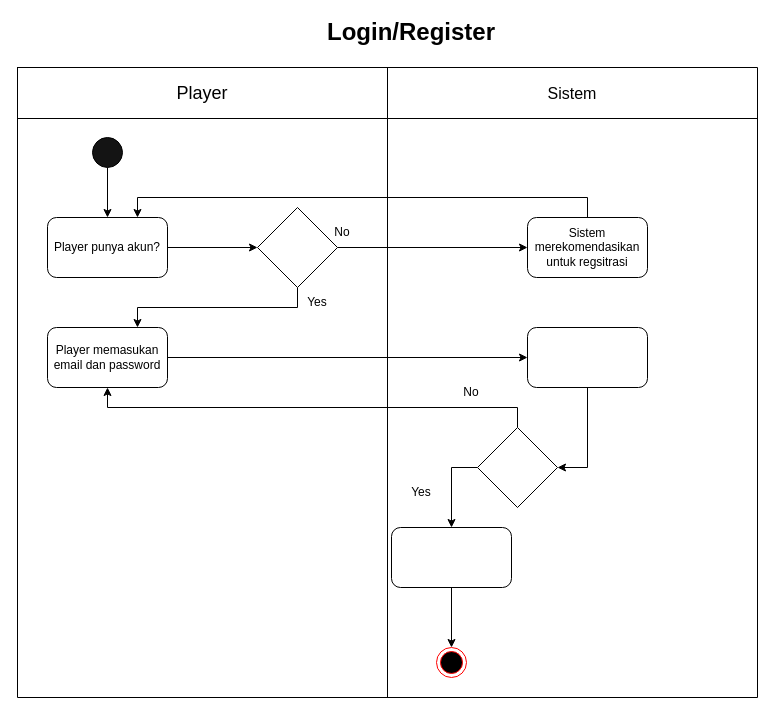
This 775x715 diagram has some shape labels left out. The shapes that lost their labels are listed below. From the top down, each one's centre as x and y in pixels, then its label:
At (587,357): "Sistem melakukan validasi terhadap akun player".
At (451,557): "Masuk ke dalam game".
